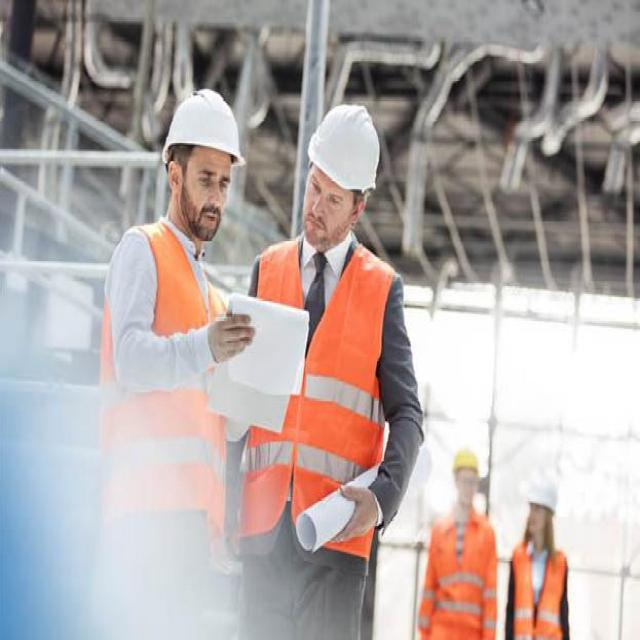Reflective-Jacket: (238, 235, 402, 560), (95, 218, 231, 530), (423, 512, 498, 637), (511, 544, 569, 638)
Safety-Helmet: (303, 95, 386, 197), (157, 83, 250, 171)
